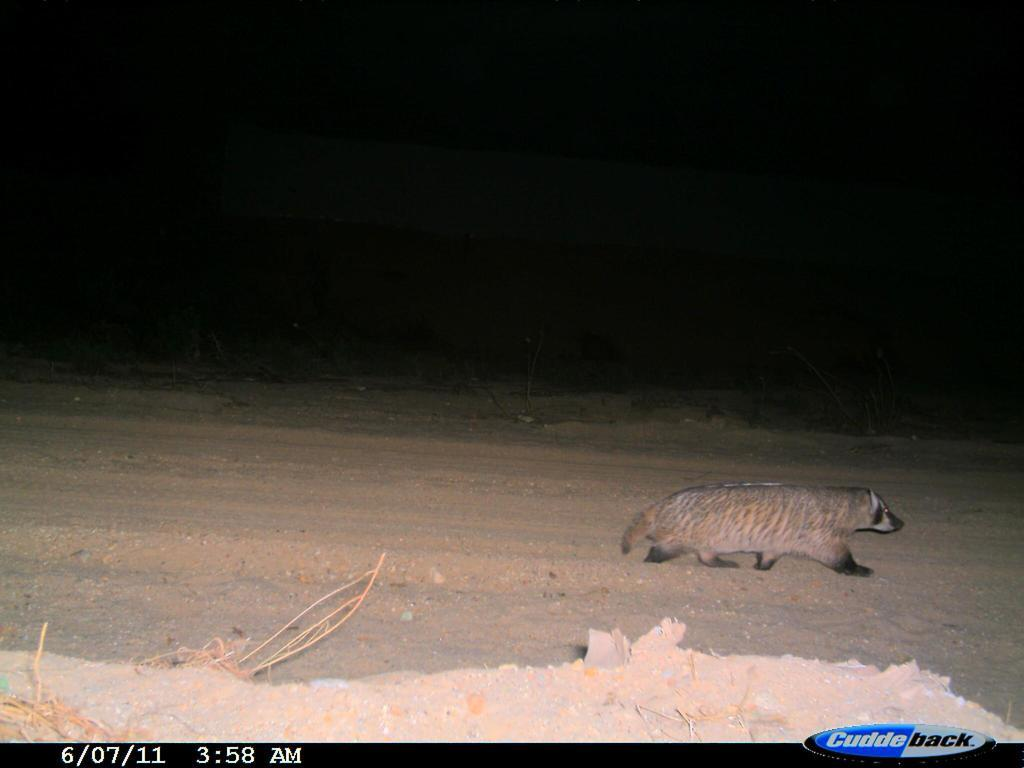badger: (623, 479, 911, 582)
